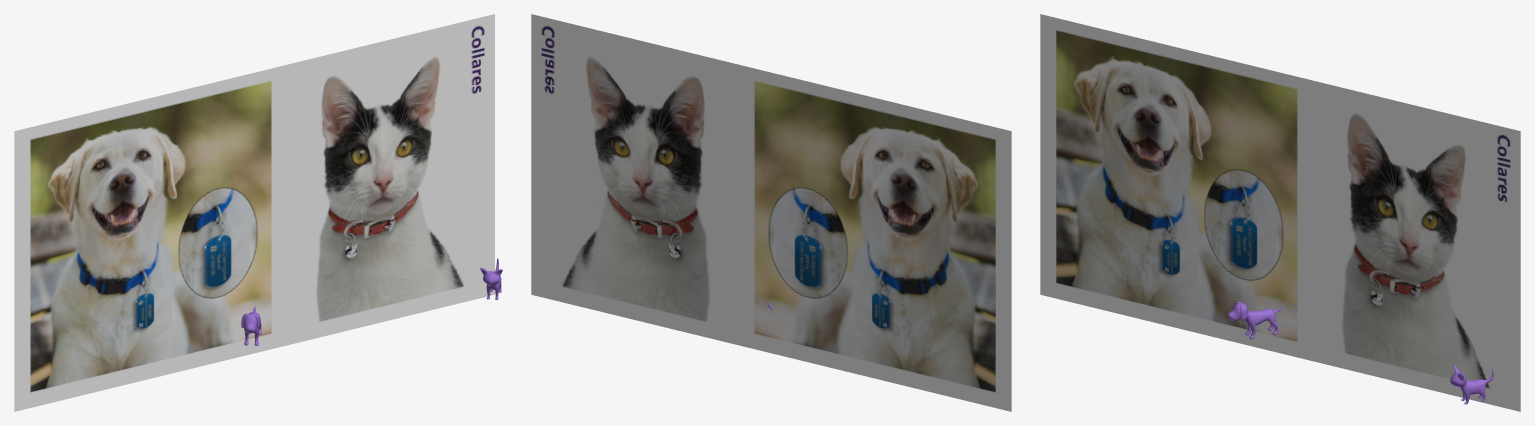
File: version3d.glb
3 renders of one model, left to right at view 1: azimuth 30°, elevation 25°; view 2: azimuth 150°, elevation 25°; view 3: azimuth 330°, elevation 25°, orthographic.
Visible parts, largest first — view 1: mesh_id1, mesh_id32, mesh_id34; view 2: mesh_id1; view 3: mesh_id1, mesh_id32, mesh_id34.
Part boxes in pixels (bbox=[...]): mesh_id1: bbox=[14, 14, 494, 411]; mesh_id32: bbox=[241, 306, 261, 345]; mesh_id34: bbox=[480, 258, 502, 299]; mesh_id1: bbox=[531, 14, 1011, 411]; mesh_id1: bbox=[1040, 14, 1520, 411]; mesh_id32: bbox=[1227, 301, 1281, 339]; mesh_id34: bbox=[1450, 365, 1493, 404].
Bounding box in the file's own units: 1.78 × 0.993 × 0.2257.
Materials: 3 (3 with a texture image).
